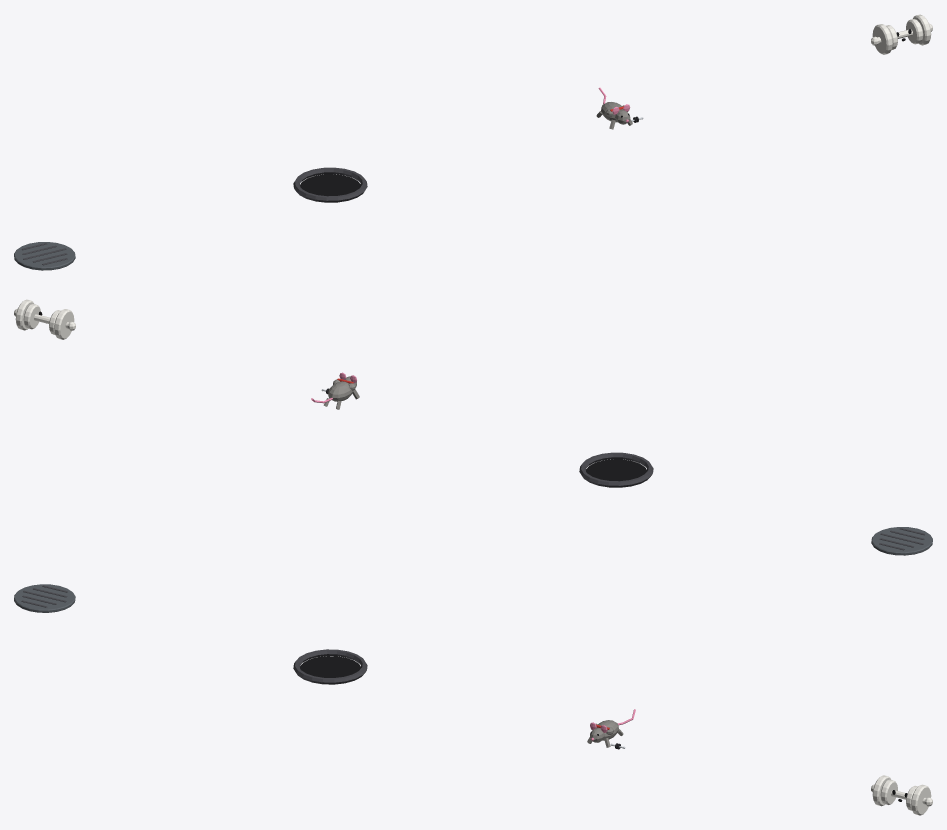
The model's file is Props_Secrets.fbx.
The picture shows the model from 3 angles, top to bottom: view 1: azimuth 30°, elevation 25°; view 2: azimuth 150°, elevation 25°; view 3: azimuth 330°, elevation 25°; orthographic projection.
Parts seen in each view (by area): view 1: Secret_ManholeRing, Secret_ManholeLid, Secret_GhostDumbbell, Secret_RatCoach; view 2: Secret_ManholeRing, Secret_ManholeLid, Secret_GhostDumbbell, Secret_RatCoach; view 3: Secret_ManholeRing, Secret_ManholeLid, Secret_GhostDumbbell, Secret_RatCoach.
Part boxes in pixels (<box>): Secret_ManholeRing: <box>293,167,367,202</box>; Secret_ManholeLid: <box>14,242,75,270</box>; Secret_GhostDumbbell: <box>871,14,932,54</box>; Secret_RatCoach: <box>596,87,643,129</box>; Secret_ManholeRing: <box>579,452,653,487</box>; Secret_ManholeLid: <box>871,527,932,555</box>; Secret_GhostDumbbell: <box>14,299,75,339</box>; Secret_RatCoach: <box>311,372,359,409</box>; Secret_ManholeRing: <box>293,649,367,684</box>; Secret_ManholeLid: <box>14,584,75,612</box>; Secret_GhostDumbbell: <box>871,775,932,815</box>; Secret_RatCoach: <box>587,709,635,749</box>.
Size of the model in its own units: 51.21 by 1.5 by 3.62.
Materials: 1 (1 with a texture image).
